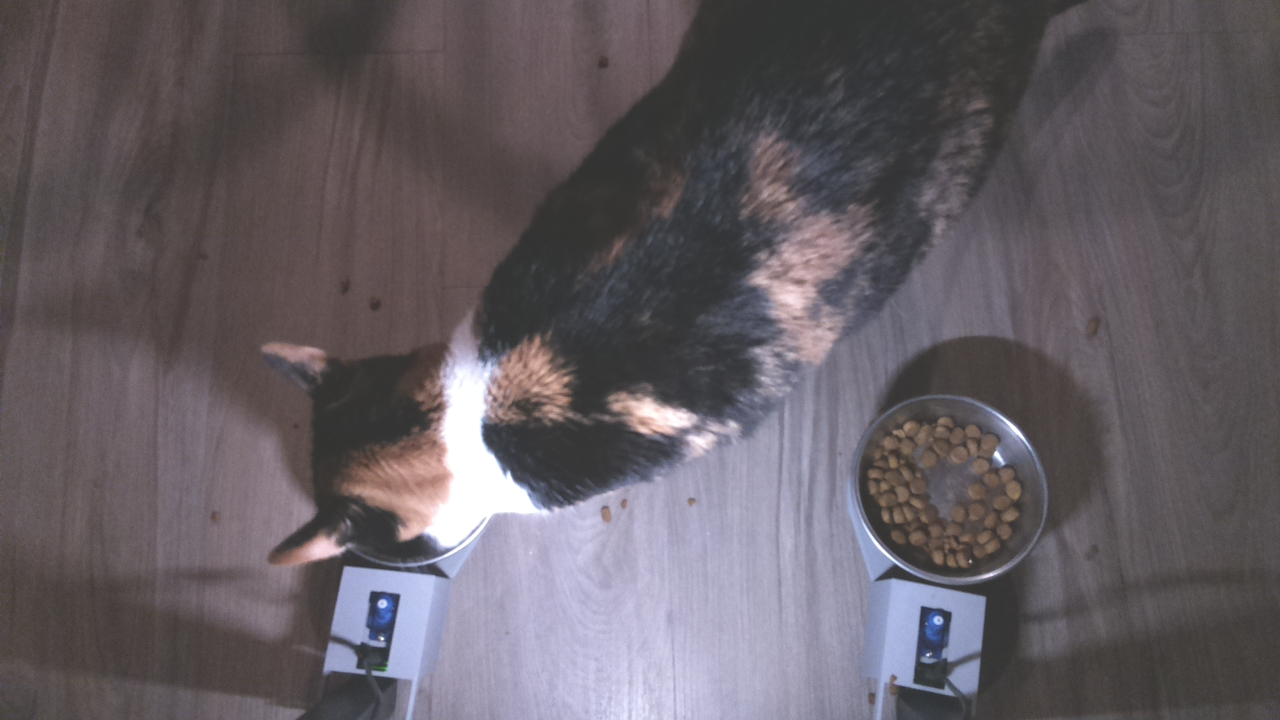bella_eating: (257, 311, 555, 577)
open_bowl: (843, 386, 1056, 592)
